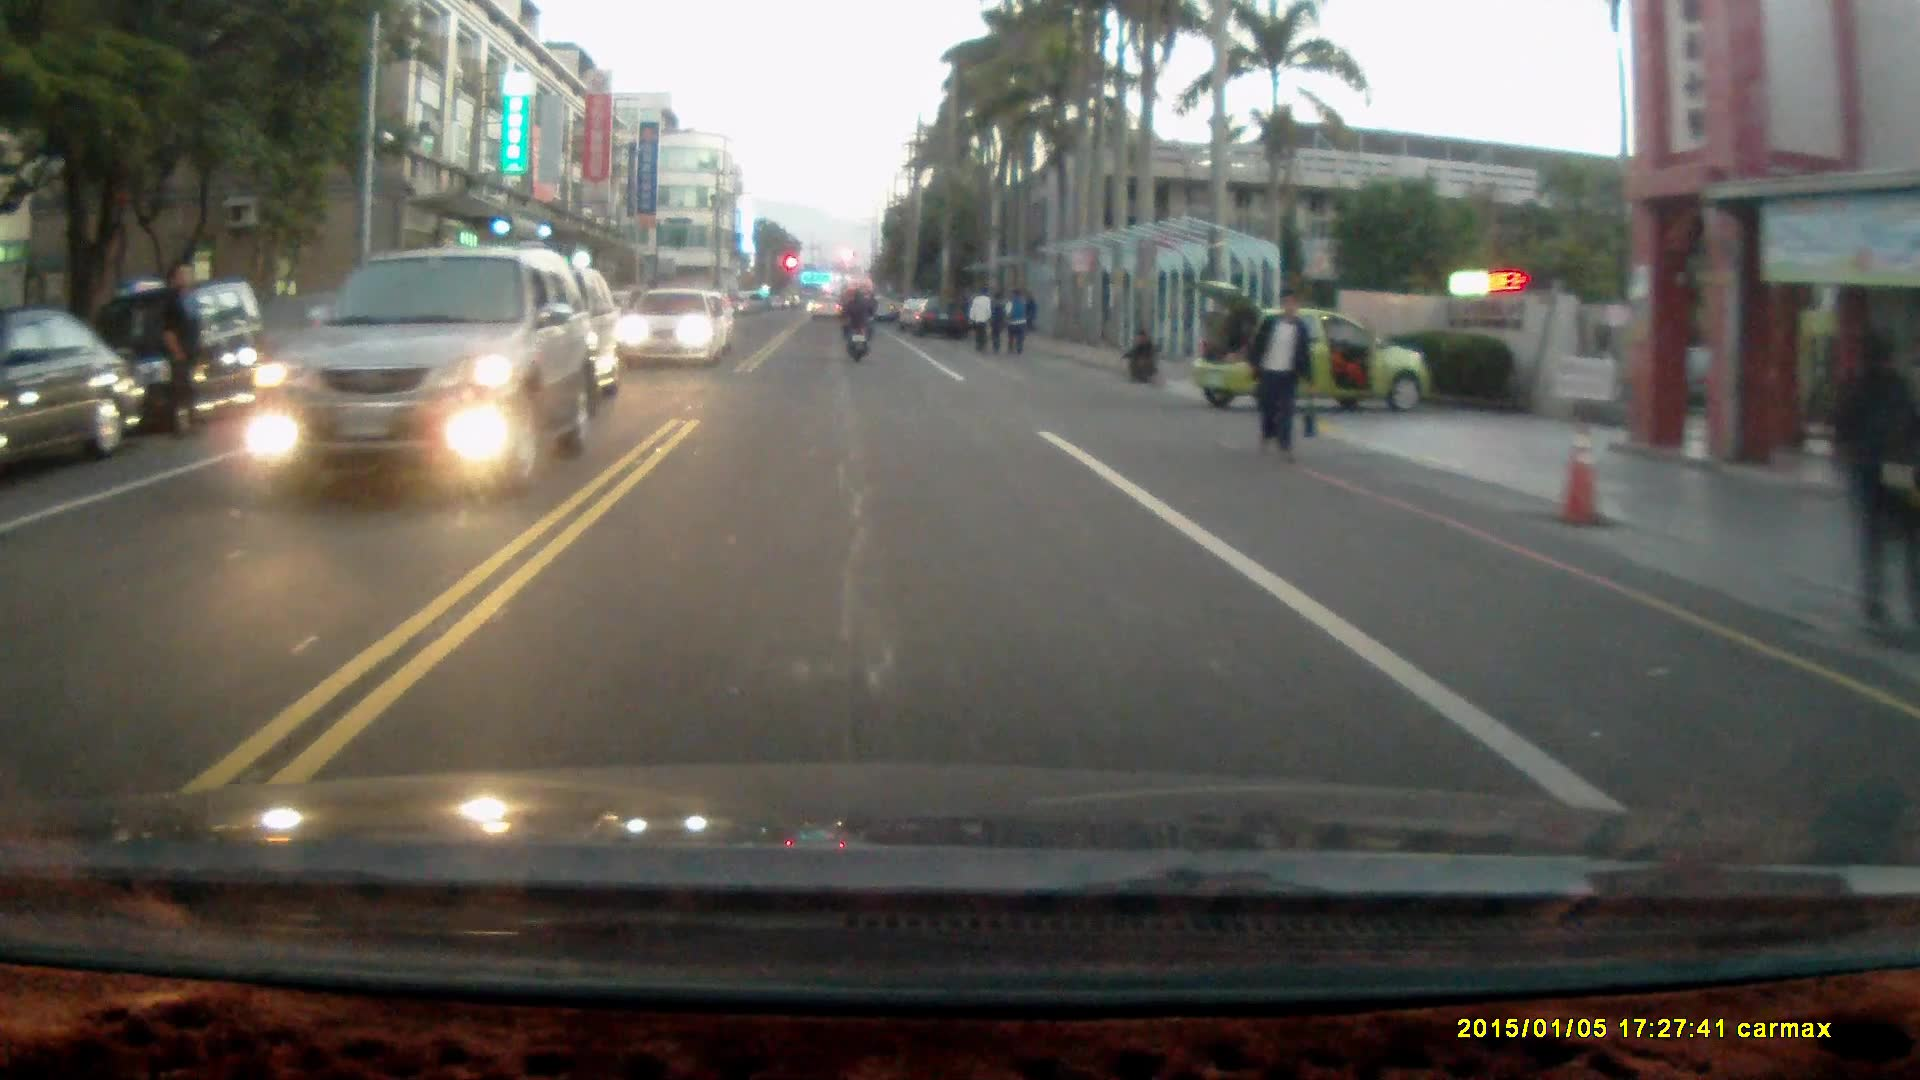pedestrian: (1828, 321, 1920, 654), (1243, 284, 1314, 467), (1121, 323, 1156, 383), (1002, 282, 1028, 355), (971, 289, 994, 362), (987, 288, 1008, 356)
rider: (837, 285, 876, 363)
vehicle: (249, 245, 596, 488), (1191, 274, 1430, 416), (95, 275, 269, 431), (622, 287, 733, 367), (918, 294, 972, 339)
